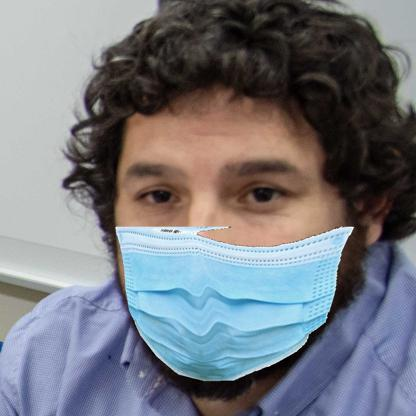mask: (112, 220, 355, 382)
